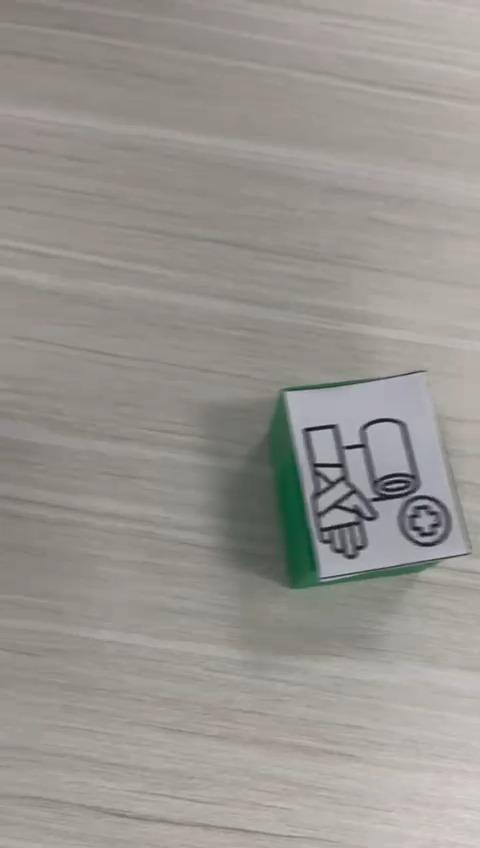Bandages: (269, 370, 469, 592)
